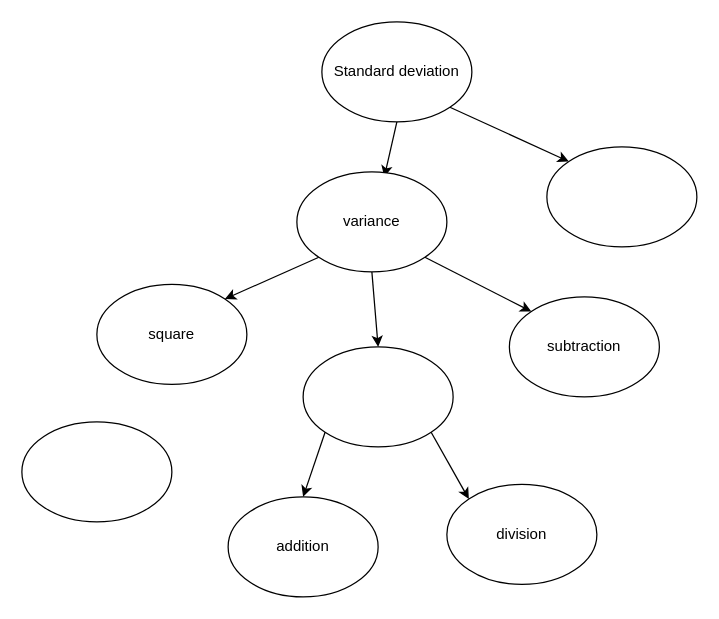
Image size: 719x619. Some labels were removed from this diagram. The shapes that lost their labels are listed below. From the top down, each one's box as (x1, y1, x2, y2) in pixels, then its label:
(546, 146, 697, 247): square root
(302, 346, 453, 447): mean
(21, 421, 172, 522): multiplication
